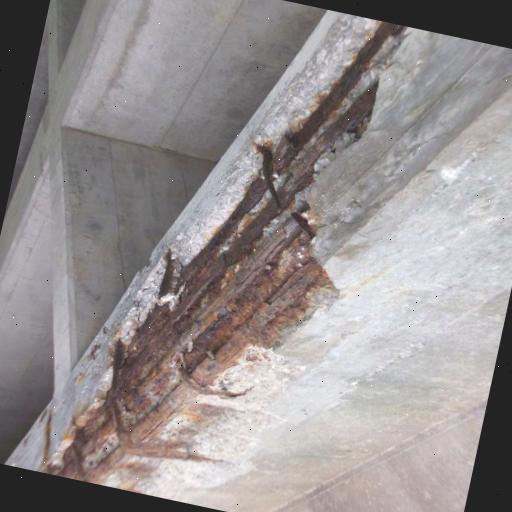spalling: (24, 26, 413, 492)
